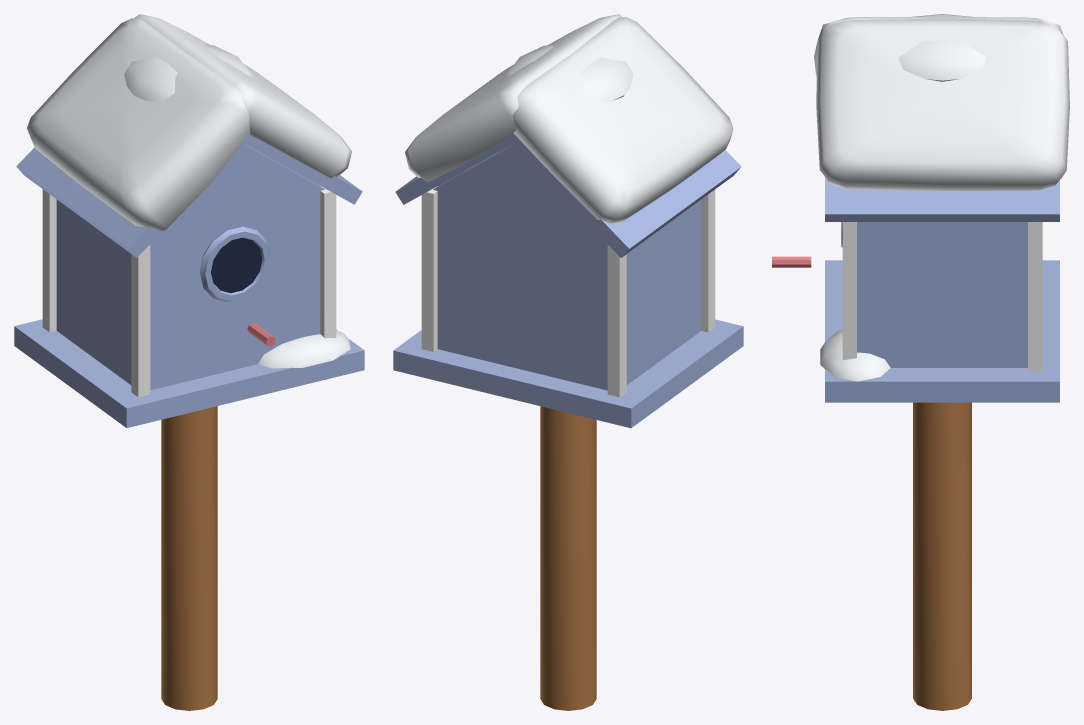
The model's file is SnowyBirdhouse.obj.
The picture shows the model from 3 angles, left to right: view 1: azimuth 30°, elevation 25°; view 2: azimuth 150°, elevation 25°; view 3: azimuth 270°, elevation 25°; orthographic projection. The views are drawn at different scales.
Parts seen in each view (by area): view 1: SnowyBirdhouse; view 2: SnowyBirdhouse; view 3: SnowyBirdhouse.
Part boxes in pixels (x1,y1,x2,y2): SnowyBirdhouse: (14, 14, 364, 710); SnowyBirdhouse: (393, 14, 743, 710); SnowyBirdhouse: (772, 14, 1069, 710).
Size of the model in its own units: 4.4 by 11.47 by 4.56.
1 material, 1 textured.
